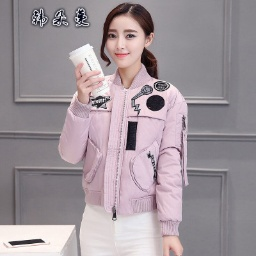face: (99, 3, 162, 78)
